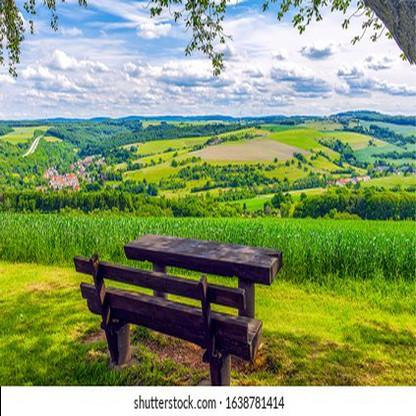obstacle: (75, 238, 287, 382)
